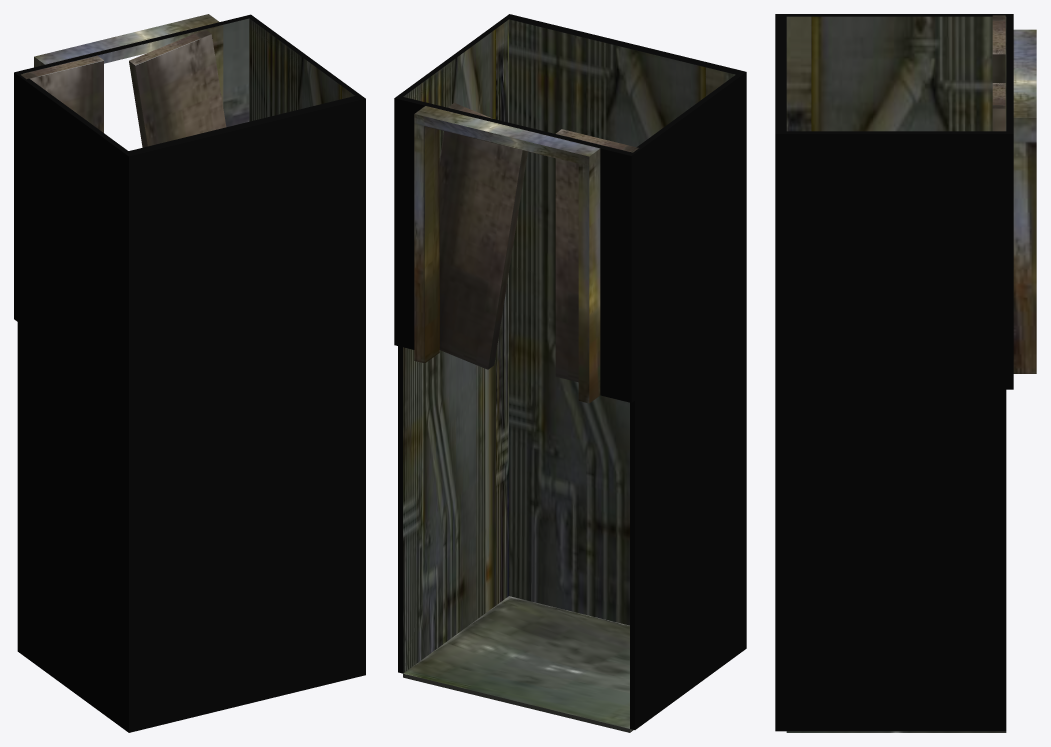
Rendered from very_broken_elevator.FBX.
The picture shows the model from 3 angles, left to right: view 1: azimuth 30°, elevation 25°; view 2: azimuth 150°, elevation 25°; view 3: azimuth 270°, elevation 25°; orthographic projection. The views are drawn at different scales.
Parts seen in each view (by area): view 1: elevator001, elevator_door_l001, elevator_door_r001; view 2: elevator001, elevator_floor001, elevator_door_l001, elevator_door_r001; view 3: elevator001, elevator_door_r001, elevator_door_l001, elevator_floor001.
Part boxes in pixels (x1,y1,x2,y2): elevator001: (14,14,365,732); elevator_door_l001: (129,29,226,147); elevator_door_r001: (21,55,103,132); elevator001: (394,14,746,729); elevator_floor001: (403,596,633,732); elevator_door_l001: (439,103,527,369); elevator_door_r001: (555,129,638,382); elevator001: (775,14,1036,731); elevator_door_r001: (992,15,1005,82); elevator_door_l001: (992,83,1005,131); elevator_floor001: (786,731,1006,732).
Size of the model in its own units: 184 by 430 by 169.
